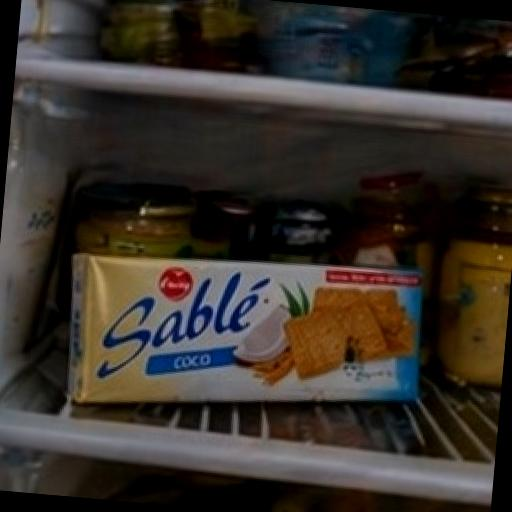sabl: (26, 196, 480, 494)
